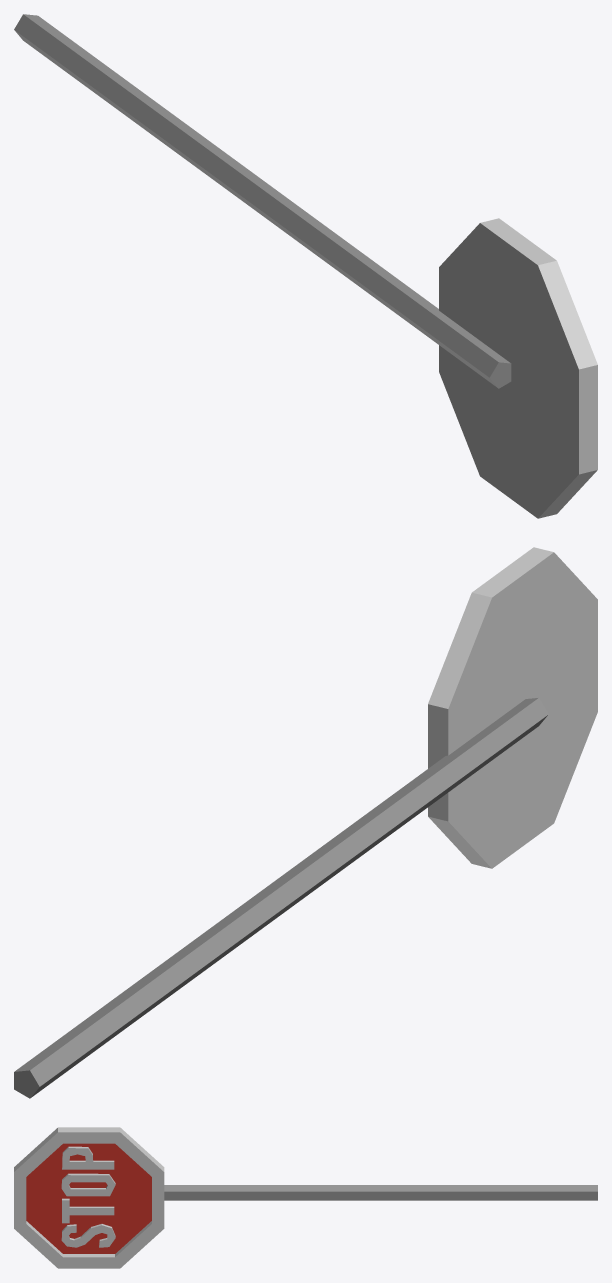
File: stop-sign.obj
The picture shows the model from 3 angles, top to bottom: view 1: azimuth 30°, elevation 25°; view 2: azimuth 150°, elevation 25°; view 3: azimuth 270°, elevation 25°; orthographic projection. The views are drawn at different scales.
Visible parts, largest first — view 1: stop-sign; view 2: stop-sign; view 3: stop-sign.
Boxes of the visible parts, x1,y1,x2,y2 form: stop-sign: (14, 14, 597, 518); stop-sign: (14, 547, 597, 1098); stop-sign: (14, 1127, 597, 1268).
Bounding box in the file's own units: 3.64 × 21.62 × 84.
